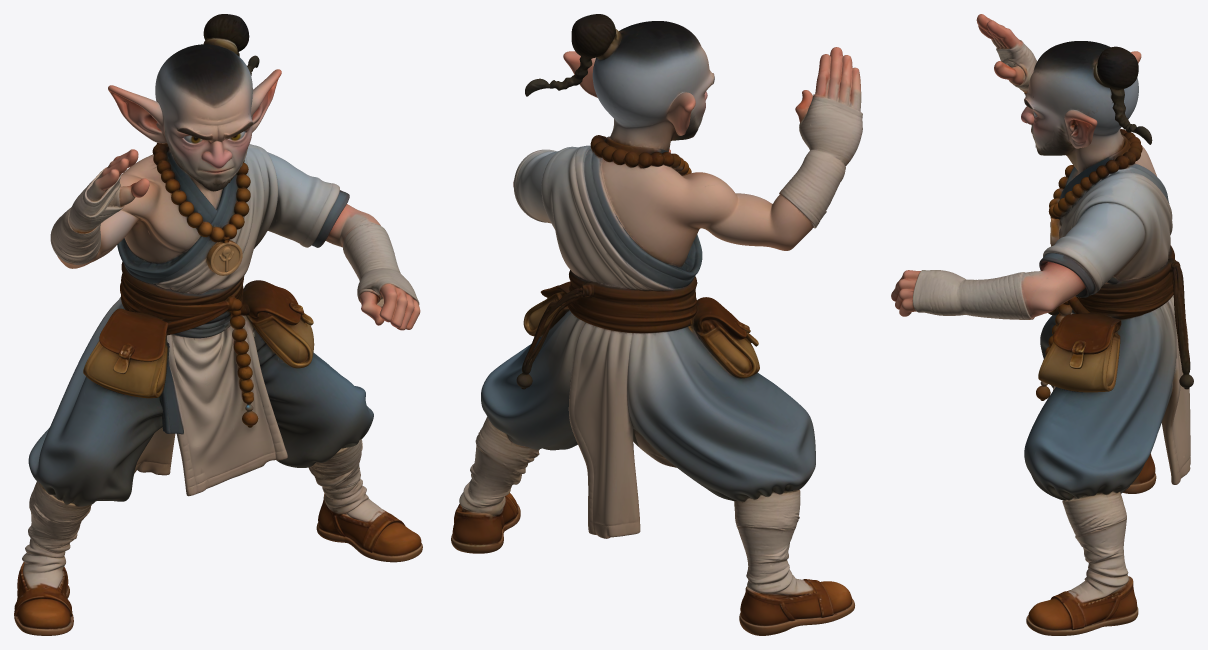
The model's file is halfling_monk_full_male_01.glb.
3 views of the same model, side by side, from view 1: azimuth 30°, elevation 25°; view 2: azimuth 150°, elevation 25°; view 3: azimuth 270°, elevation 25° (orthographic). The views are drawn at different scales.
Visible parts, largest first — view 1: material; view 2: material; view 3: material.
Part boxes in pixels (x1,y1,x2,y2): material: (14,14,422,635); material: (451,14,862,635); material: (891,14,1193,635).
Bounding box in the file's own units: 0.7177 × 0.9696 × 0.5164.
Materials: 1 (1 with a texture image).
